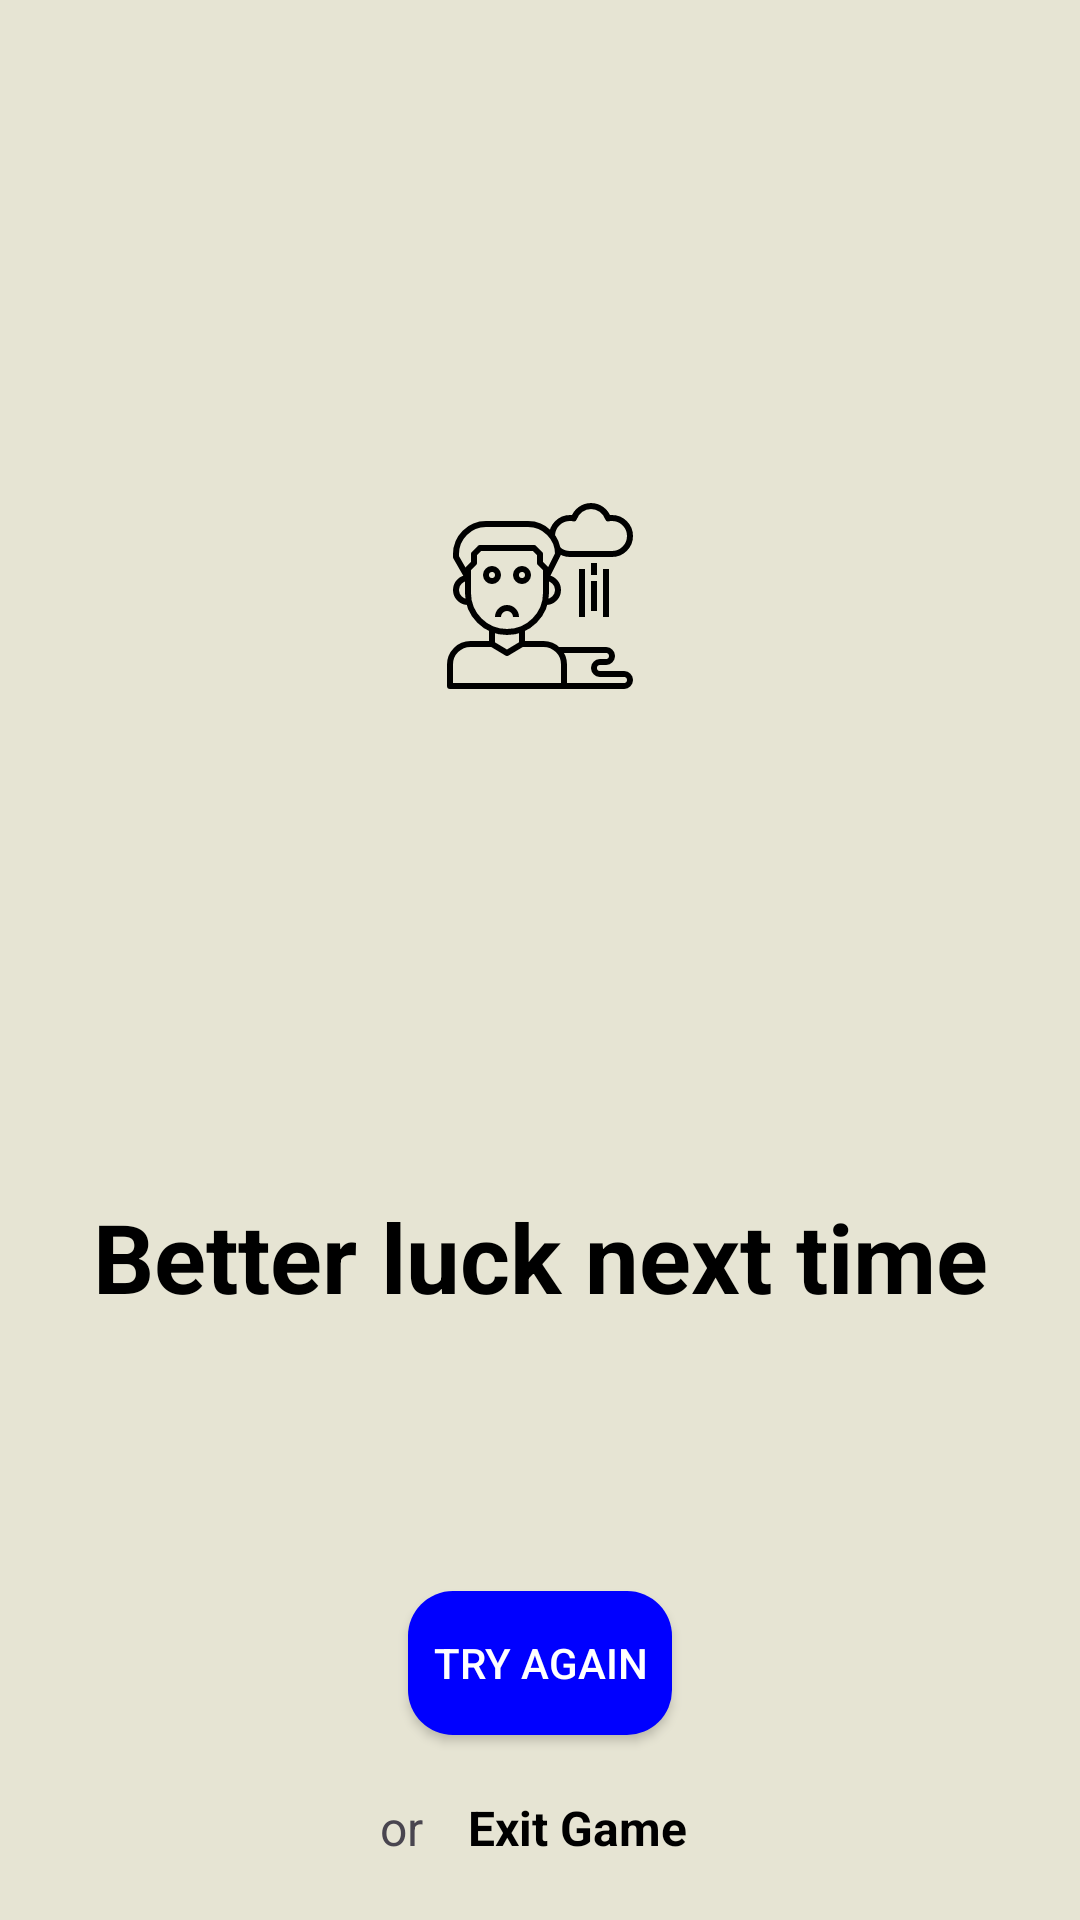

Where to tap for icons on this 1080x1920 app screen, as (x,y):
sad man: (540,596)
